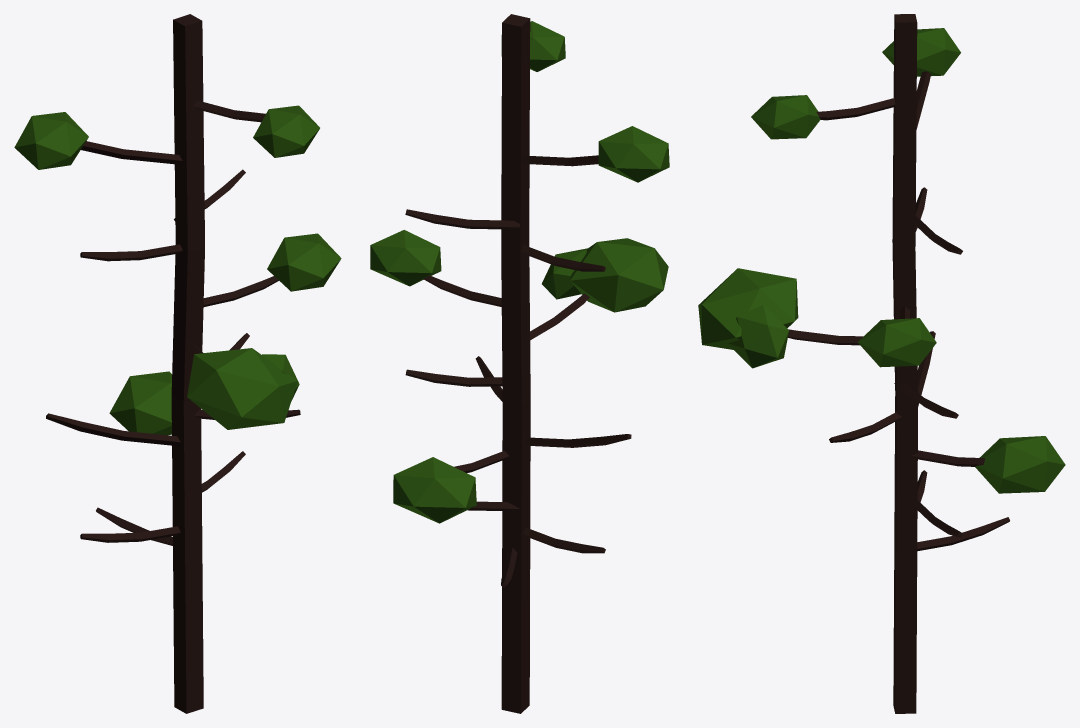
The model's file is SM_tree_d_04.FBX.
The picture shows the model from 3 angles, left to right: view 1: azimuth 30°, elevation 25°; view 2: azimuth 150°, elevation 25°; view 3: azimuth 270°, elevation 25°; orthographic projection.
Parts seen in each view (by area): view 1: Object055; view 2: Object055; view 3: Object055.
Boxes of the visible parts, <box> form: Object055: <box>14,14,341,713</box>; Object055: <box>370,14,669,713</box>; Object055: <box>698,14,1065,713</box>.
Bounding box in the file's own units: 476 × 1038 × 500.
